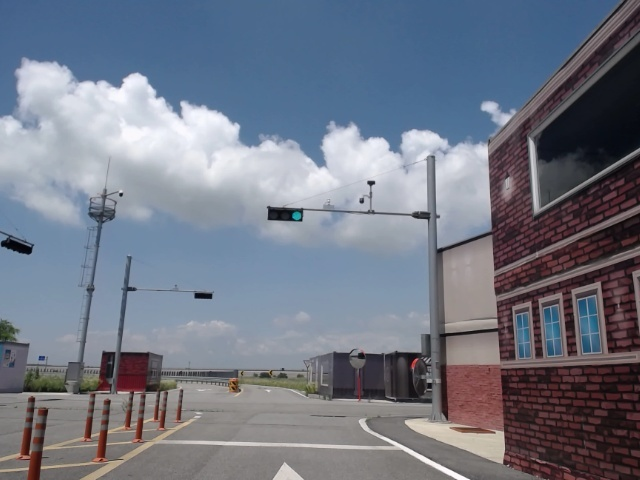green_3: (266, 204, 304, 222)
